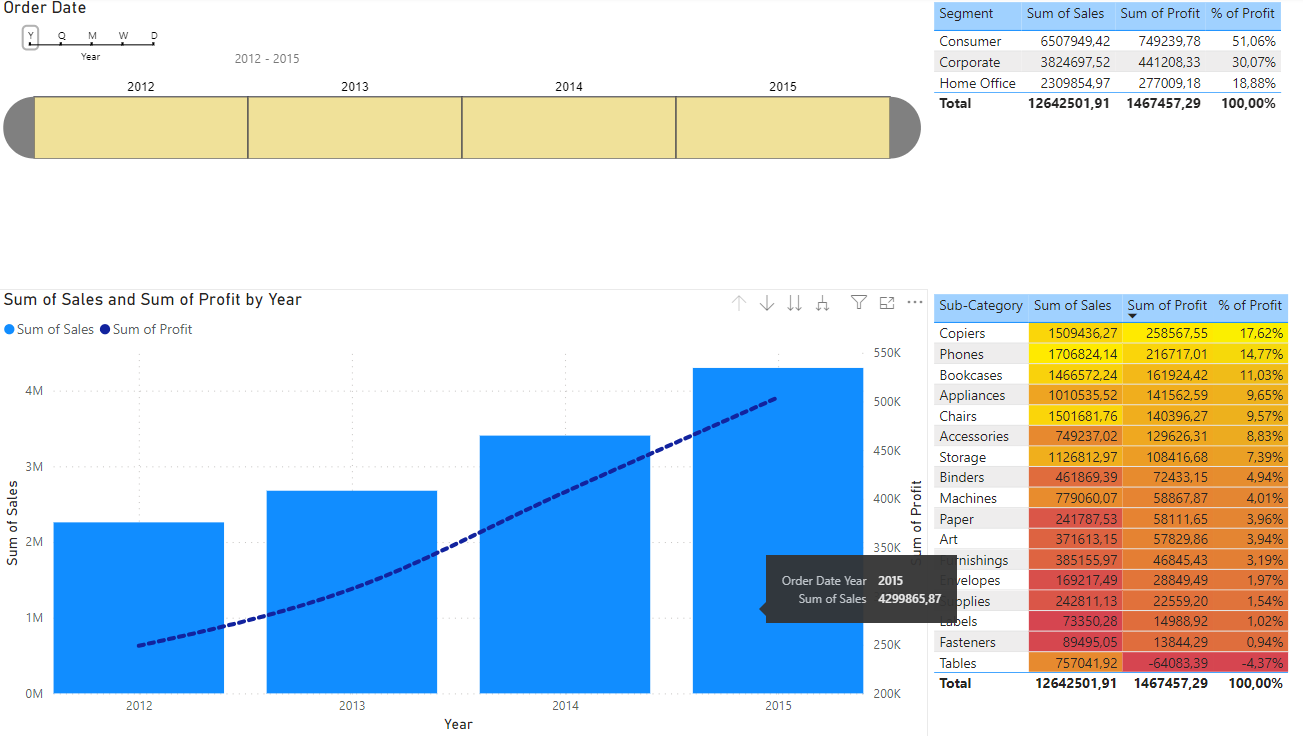

What the dashboard file says about the page in this screenshot:
{"tool":"powerbi","page":{"name":"Sales and profit ","canvas":[1280,720],"ordinal":1},"visuals":[{"type":"Timeline1447991079100","fields":{"Time":["Orders.Order Date"]},"box":[0,0,903.9,243.9],"z":0},{"type":"lineStackedColumnComboChart","fields":{"Category":["Orders.Order Date.Variation.Date Hierarchy.Year","Orders.Order Date.Variation.Date Hierarchy.Quarter"],"Y":["Sum(Orders.Sales)"],"Y2":["Sum(Orders.Profit)"]},"box":[0,283.8,903.9,436.4],"z":1000},{"type":"tableEx","fields":{"Values":["Orders.Segment","Sum(Orders.Sales)","Sum(Orders.Profit)","Divide(Sum(Orders.Profit), ScopedEval(Sum(Orders.Profit), []))"]},"box":[903.9,0,377.1,147.7],"z":2000},{"type":"tableEx","fields":{"Values":["Orders.Sub-Category","Sum(Orders.Sales)","Sum(Orders.Profit)","Divide(Sum(Orders.Profit), ScopedEval(Sum(Orders.Profit), []))"]},"box":[903.9,283.8,377.1,436.4],"z":3000}]}

Visuals, with their boxes in screenshot pixels (x1, y1, x2, y2), scaled from the page's 1280x720 canvas onto the 1303x736 screenshot:
Timeline1447991079100 - Orders.Order Date: select_region(0, 0, 920, 249)
lineStackedColumnComboChart - Orders.Order Date.Variation.Date Hierarchy.Year x Orders.Order Date.Variation.Date Hierarchy.Quarter: select_region(0, 290, 920, 735)
tableEx - Orders.Segment x Sum(Orders.Sales): select_region(920, 0, 1302, 151)
tableEx - Orders.Sub-Category x Sum(Orders.Sales): select_region(920, 290, 1302, 735)
